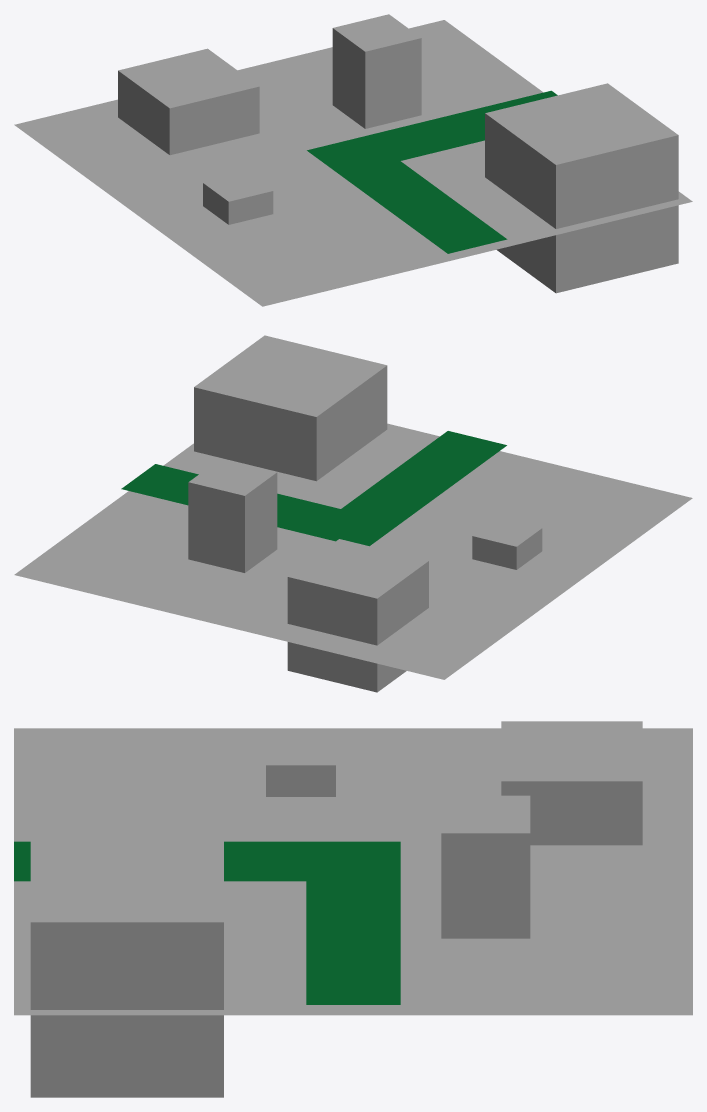
The model's file is street_corner_004.fbx.
3 views of the same model, one above another, from view 1: azimuth 30°, elevation 25°; view 2: azimuth 150°, elevation 25°; view 3: azimuth 270°, elevation 25° (orthographic). The views are drawn at different scales.
Visible parts, largest first — view 1: pPlane36, pCube17, pCube18, pCube19, pPlane35, pPlane34, pCube20; view 2: pPlane36, pCube17, pCube18, pCube19, pPlane35, pPlane34, pCube20; view 3: pPlane36, pCube17, pCube18, pCube19, pPlane34, pPlane35, pCube20.
Part boxes in pixels (box(x1,y1,x2,y2)): pPlane36: box(14, 20, 692, 306); pCube17: box(485, 83, 678, 293); pCube18: box(118, 48, 259, 155); pCube19: box(332, 14, 421, 128); pPlane35: box(307, 136, 507, 253); pPlane34: box(366, 90, 557, 160); pCube20: box(203, 172, 273, 224); pPlane36: box(14, 423, 692, 679); pCube17: box(194, 335, 387, 481); pCube18: box(287, 539, 428, 692); pCube19: box(188, 458, 277, 572); pPlane35: box(307, 431, 506, 546); pPlane34: box(121, 464, 340, 534); pCube20: box(472, 517, 542, 569); pPlane36: box(14, 728, 692, 1015); pCube17: box(30, 840, 223, 1097); pCube18: box(501, 721, 642, 845); pCube19: box(441, 795, 530, 938); pPlane34: box(306, 881, 400, 1004); pPlane35: box(14, 841, 400, 881); pCube20: box(266, 735, 335, 796).
Size of the model in its own units: 1 by 0.314 by 1.
